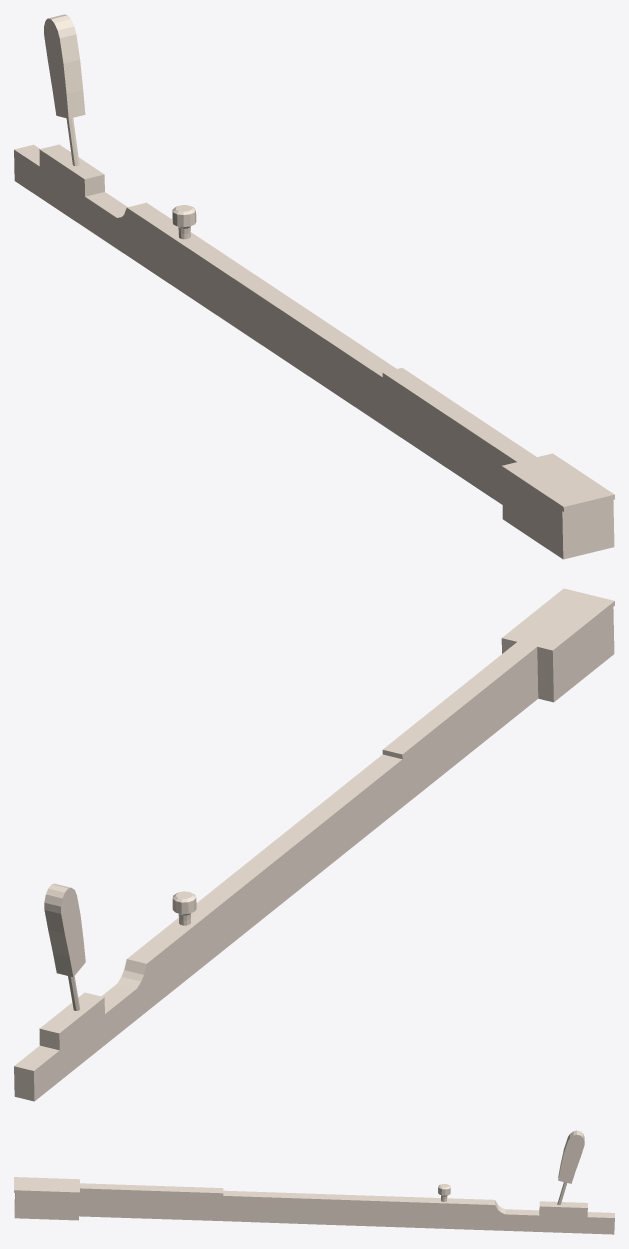
Rendered from key_base_white03.obj.
The picture shows the model from 3 angles, top to bottom: view 1: azimuth 30°, elevation 25°; view 2: azimuth 150°, elevation 25°; view 3: azimuth 270°, elevation 25°; orthographic projection. The views are drawn at different scales.
Visible parts, largest first — view 1: keys.001_Cube.030; view 2: keys.001_Cube.030; view 3: keys.001_Cube.030.
Boxes of the visible parts, left/top/right/bottom form: keys.001_Cube.030: left=14, top=14, right=614, bottom=559; keys.001_Cube.030: left=14, top=588, right=614, bottom=1101; keys.001_Cube.030: left=14, top=1130, right=614, bottom=1234.
Bounding box in the file's own units: 0.0308 × 0.1078 × 0.5911.
1 material, 1 textured.
